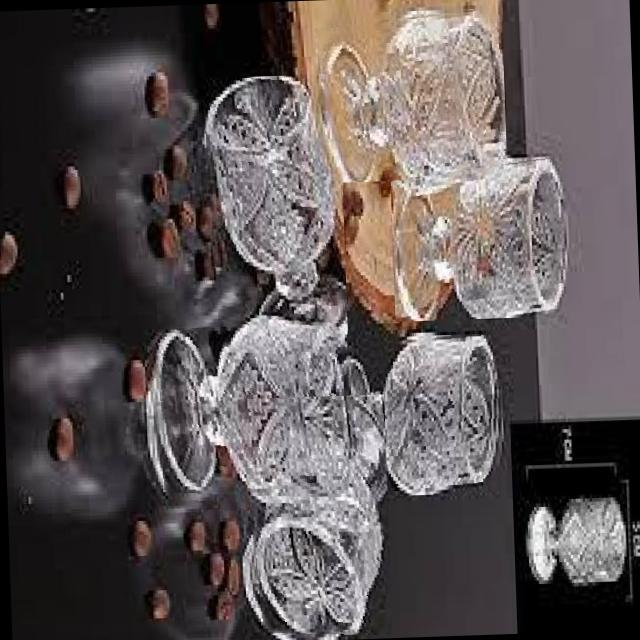Glass: (200, 73, 348, 360), (142, 322, 354, 522), (234, 394, 390, 640), (314, 6, 506, 182), (388, 154, 572, 322), (332, 330, 508, 498)
